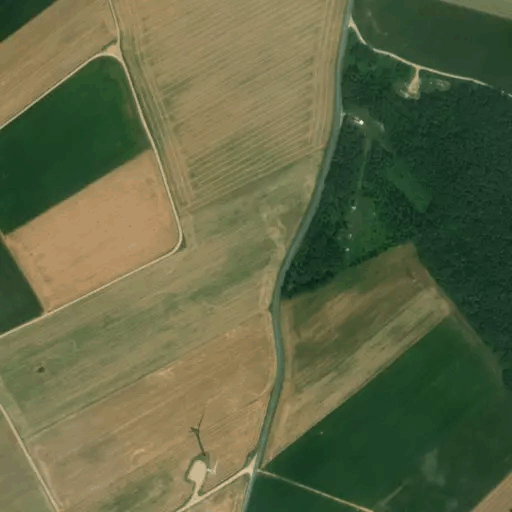wt: (179, 403, 228, 483)
